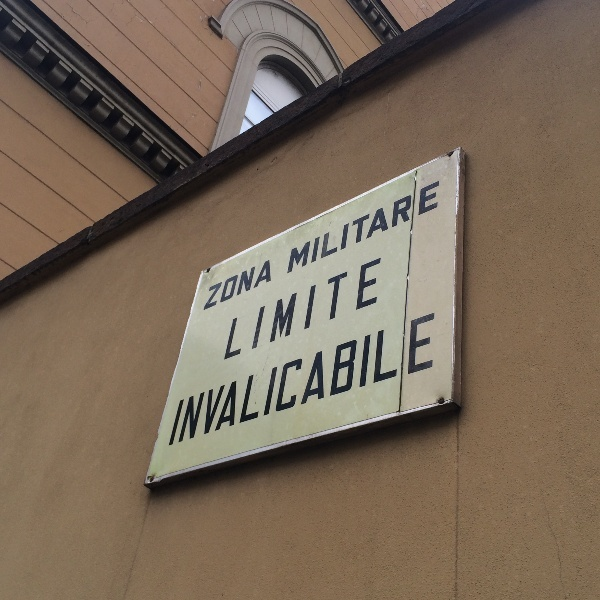text: (193, 311, 208, 449), (209, 311, 224, 449), (225, 311, 240, 449), (241, 311, 256, 449), (257, 311, 272, 449), (273, 311, 288, 449), (289, 311, 304, 449), (305, 311, 320, 449), (321, 311, 336, 449), (337, 311, 352, 449), (353, 311, 368, 449), (369, 311, 384, 449), (385, 311, 400, 449), (401, 311, 416, 449), (417, 311, 432, 449), (180, 311, 192, 449), (241, 257, 256, 363), (257, 257, 272, 363), (273, 257, 288, 363), (289, 257, 304, 363), (305, 257, 320, 363), (321, 257, 336, 363), (337, 257, 352, 363), (353, 257, 368, 363), (305, 179, 320, 276), (321, 179, 336, 276), (337, 179, 352, 276), (353, 179, 368, 276), (369, 179, 384, 276), (385, 179, 400, 276), (401, 179, 416, 276), (417, 179, 432, 276), (369, 257, 381, 363), (292, 179, 304, 276), (257, 259, 273, 313), (225, 259, 240, 313), (241, 259, 256, 313), (210, 259, 224, 313), (433, 179, 440, 276), (234, 257, 240, 363), (433, 311, 435, 449)
